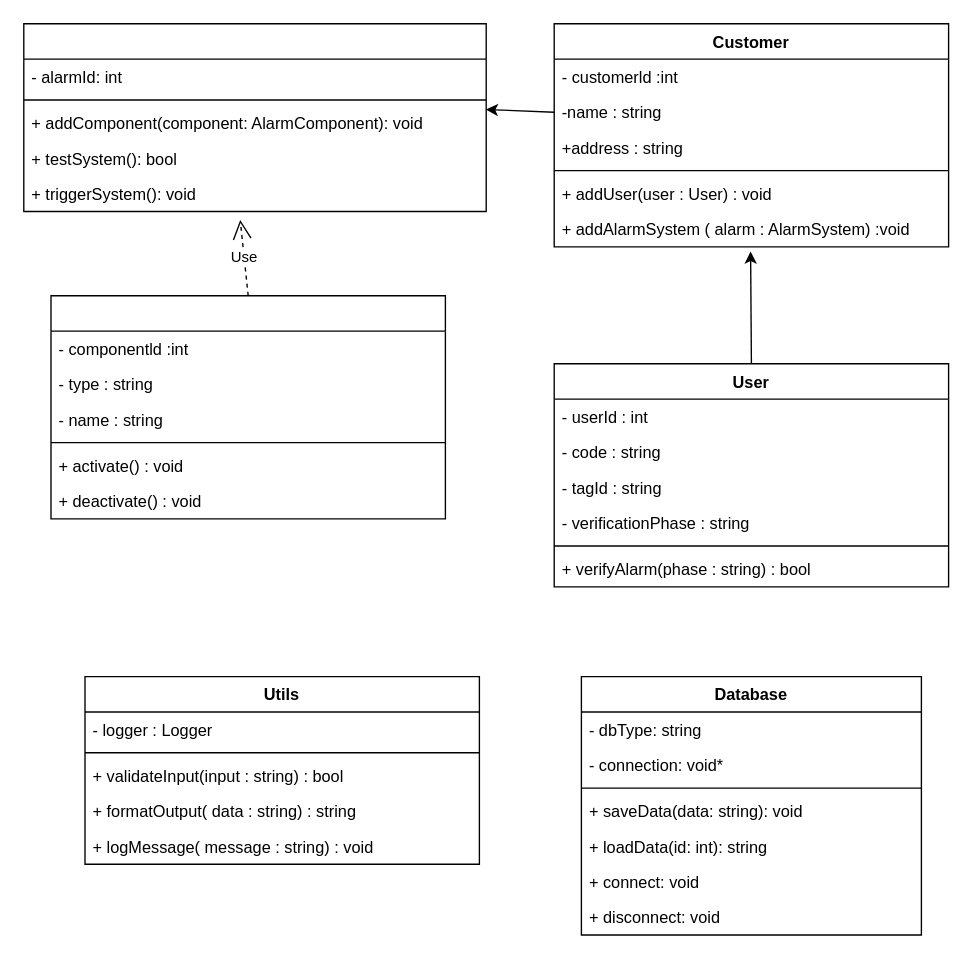
Some shapes in this 972 by 963 pixel diagram are drawn without their labels. The box of each missing label's shape, as (x1, y1, x2, y2) in pixels:
AlarmComponent: (50, 294, 445, 519)
AlarmSystem: (22, 22, 486, 211)
